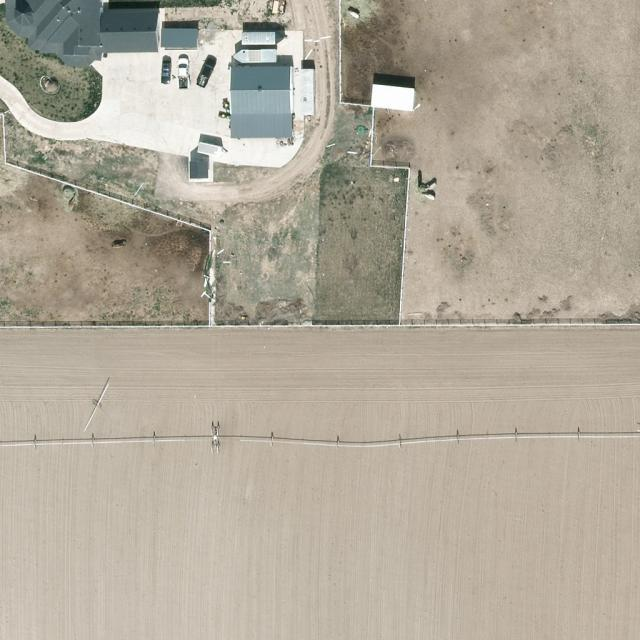vehicle: (195, 58, 217, 89), (178, 58, 190, 90), (162, 61, 172, 84)
